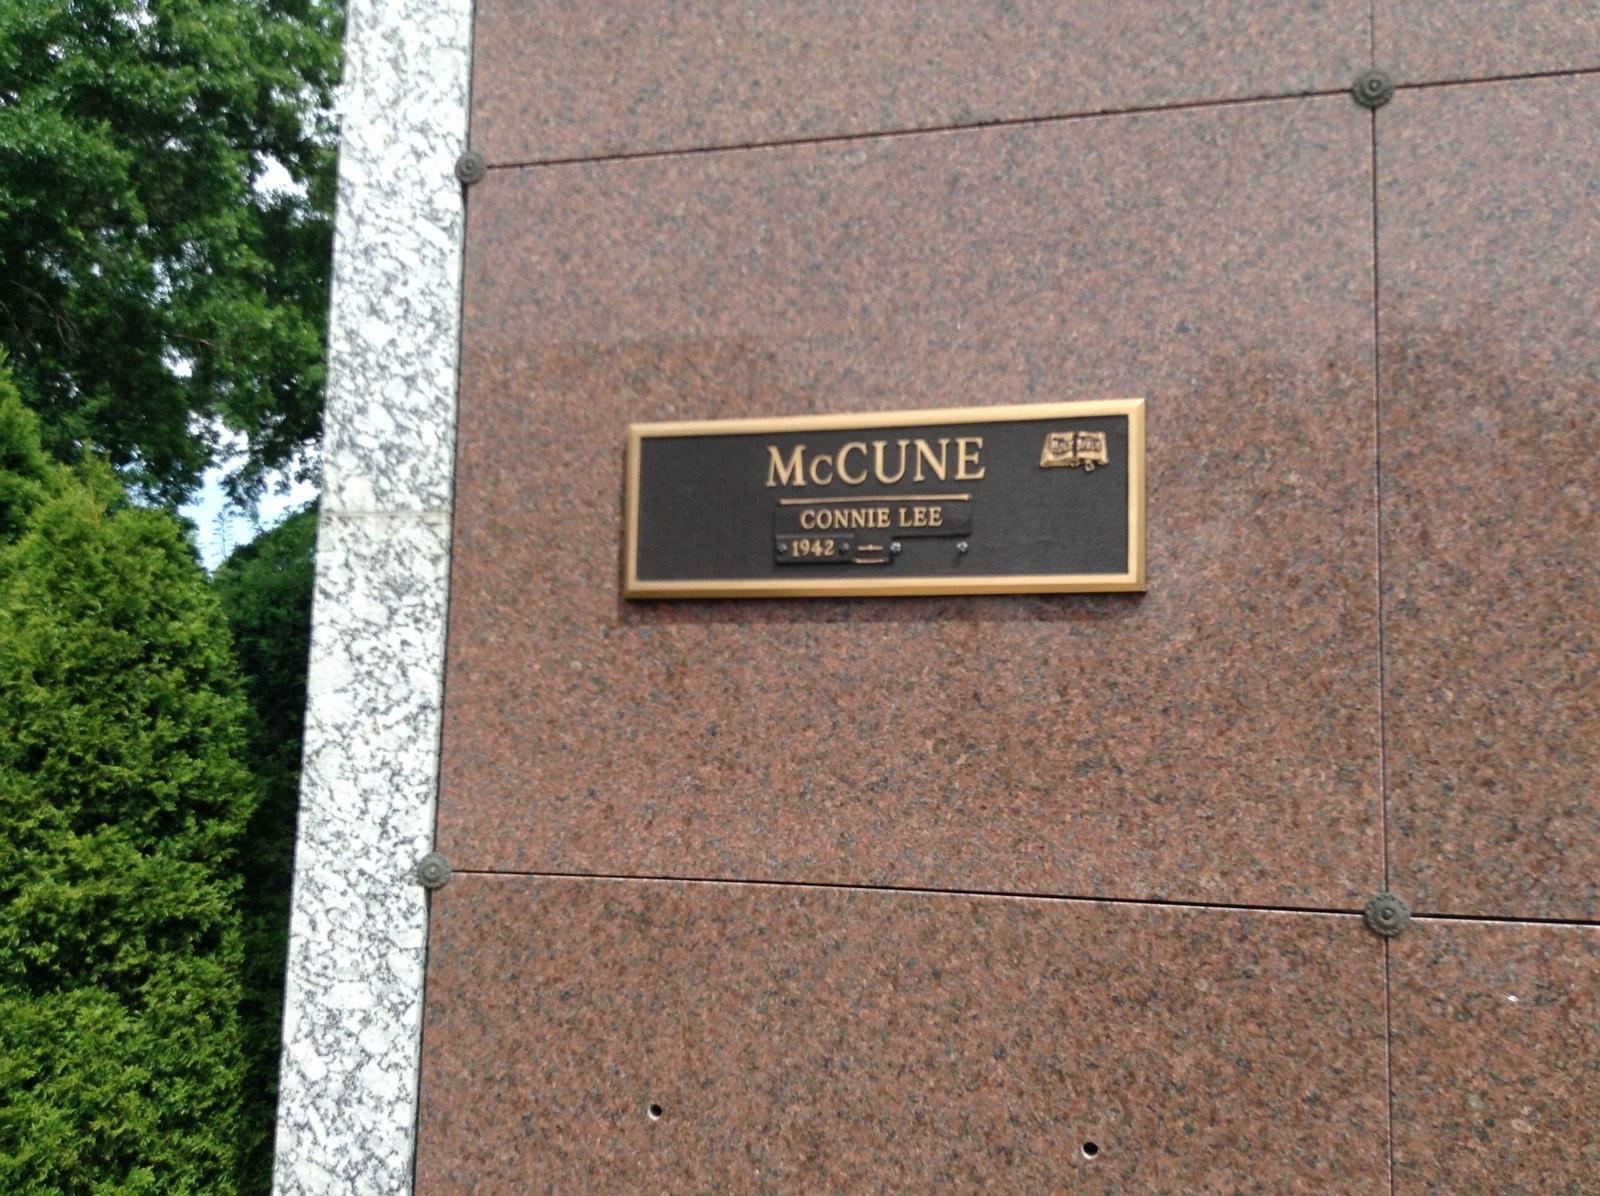plaque: (595, 371, 1199, 639)
